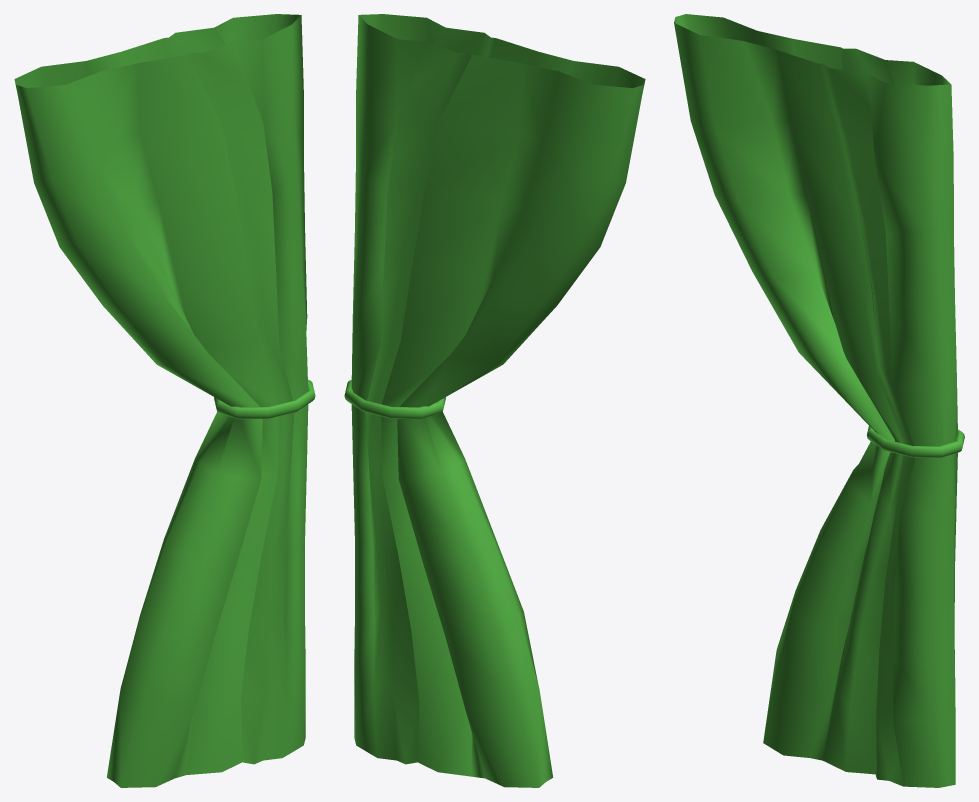
Rendered from mesh_Cortina4.fbx.
The picture shows the model from 3 angles, left to right: view 1: azimuth 30°, elevation 25°; view 2: azimuth 150°, elevation 25°; view 3: azimuth 330°, elevation 25°; orthographic projection. The views are drawn at different scales.
Parts seen in each view (by area): view 1: mesh_Cortina4; view 2: mesh_Cortina4; view 3: mesh_Cortina4.
Part boxes in pixels (bbox=[...]): mesh_Cortina4: bbox=[14, 14, 315, 787]; mesh_Cortina4: bbox=[344, 14, 645, 787]; mesh_Cortina4: bbox=[674, 14, 964, 787].
Bounding box in the file's own units: 1041 × 2421 × 285.
